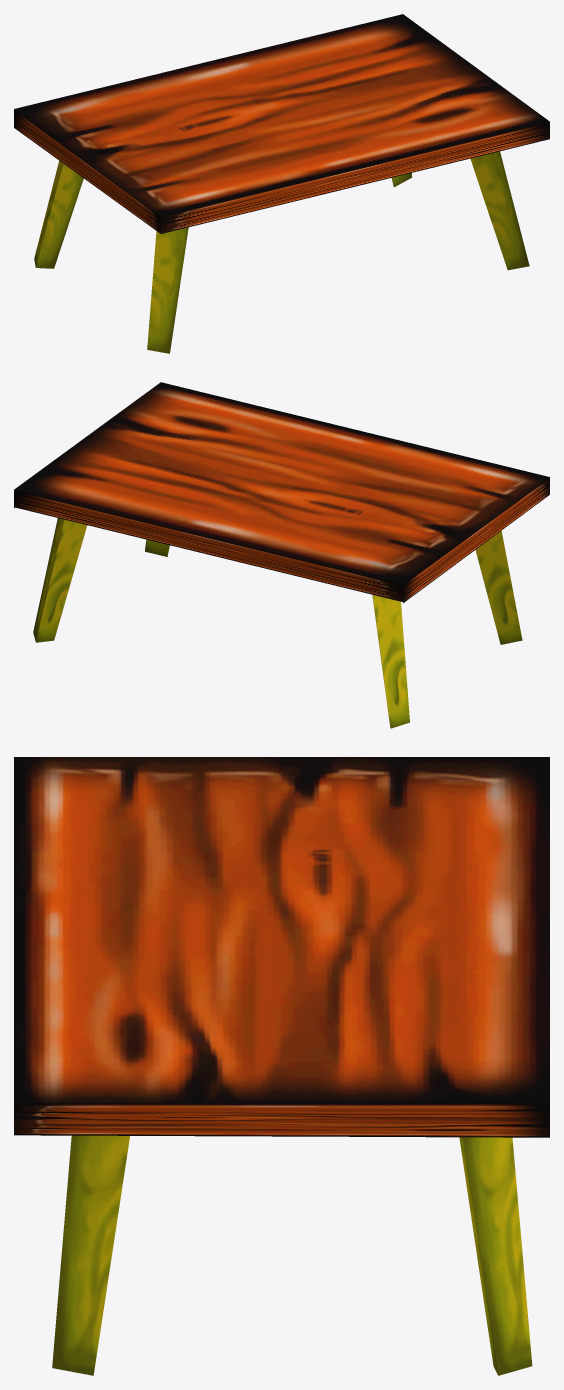
File: Tisch_Lang_1959.glb
The picture shows the model from 3 angles, top to bottom: view 1: azimuth 30°, elevation 25°; view 2: azimuth 150°, elevation 25°; view 3: azimuth 270°, elevation 25°; orthographic projection. The views are drawn at different scales.
Visible parts, largest first — view 1: pPlaneShape1, pPlaneShape3, pCylinderShape1, pCylinderShape3, pPlaneShape4, pCylinderShape2; view 2: pPlaneShape1, pPlaneShape2, pCylinderShape4, pCylinderShape2, pCylinderShape1, pPlaneShape4; view 3: pPlaneShape1, pPlaneShape5, pCylinderShape3, pCylinderShape4.
Part boxes in pixels (x1,y1,x2,y2): pPlaneShape1: (14, 14, 549, 216); pPlaneShape3: (161, 121, 549, 233); pCylinderShape1: (147, 227, 188, 353); pCylinderShape3: (470, 151, 529, 270); pPlaneShape4: (14, 109, 160, 233); pCylinderShape2: (34, 161, 83, 268); pPlaneShape1: (14, 382, 549, 584); pPlaneShape2: (14, 490, 402, 601); pCylinderShape4: (33, 518, 87, 642); pCylinderShape2: (372, 594, 409, 728); pCylinderShape1: (475, 530, 522, 644); pPlaneShape4: (403, 477, 549, 602); pPlaneShape1: (14, 757, 549, 1103); pPlaneShape5: (14, 1103, 549, 1137); pCylinderShape3: (52, 1135, 129, 1375); pCylinderShape4: (459, 1137, 532, 1375).
Bounding box in the file's own units: 0.2663 × 0.1023 × 0.1742.
9 materials, 9 textured.
